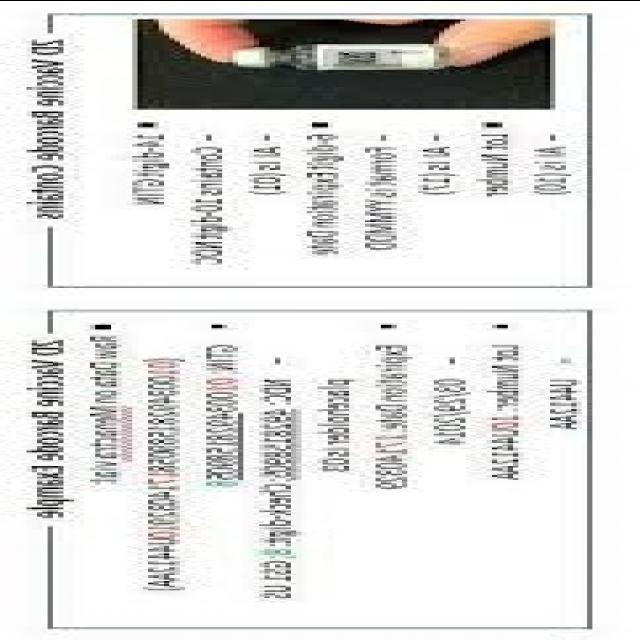Data-Matrix: (323, 48, 402, 66)
